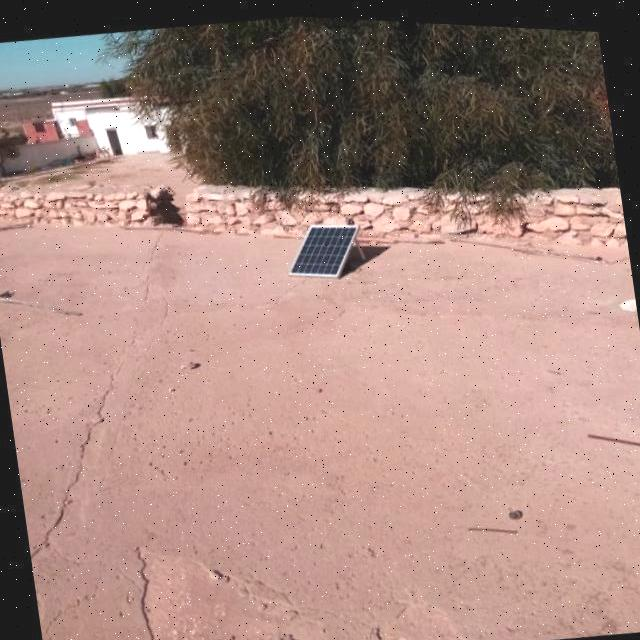Normal Solar Panel: (280, 213, 365, 280)
